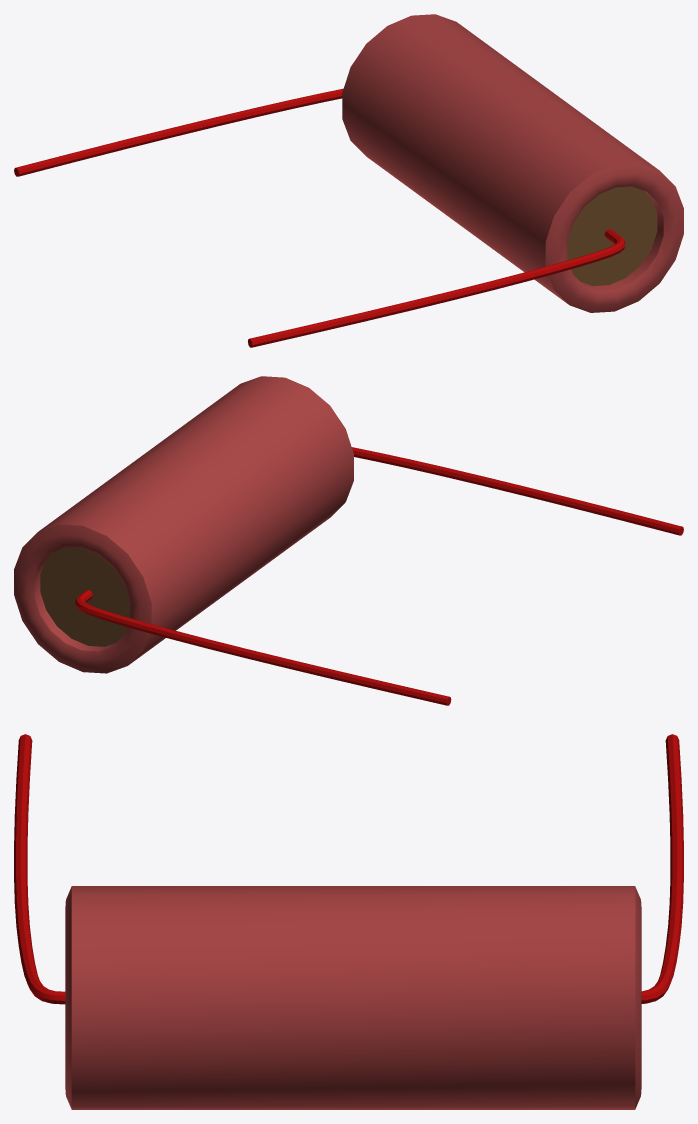
File: elements020.fbx
The picture shows the model from 3 angles, top to bottom: view 1: azimuth 30°, elevation 25°; view 2: azimuth 150°, elevation 25°; view 3: azimuth 270°, elevation 25°; orthographic projection. The views are drawn at different scales.
Parts seen in each view (by area): view 1: element020_LOD0; view 2: element020_LOD0; view 3: element020_LOD0.
Boxes of the visible parts, left/top/right/bottom form: element020_LOD0: left=14, top=14, right=683, bottom=347; element020_LOD0: left=14, top=376, right=683, bottom=705; element020_LOD0: left=14, top=734, right=683, bottom=1109.
Size of what is drawn, in the model's own units: 1.18 by 0.3666 by 1.09.
